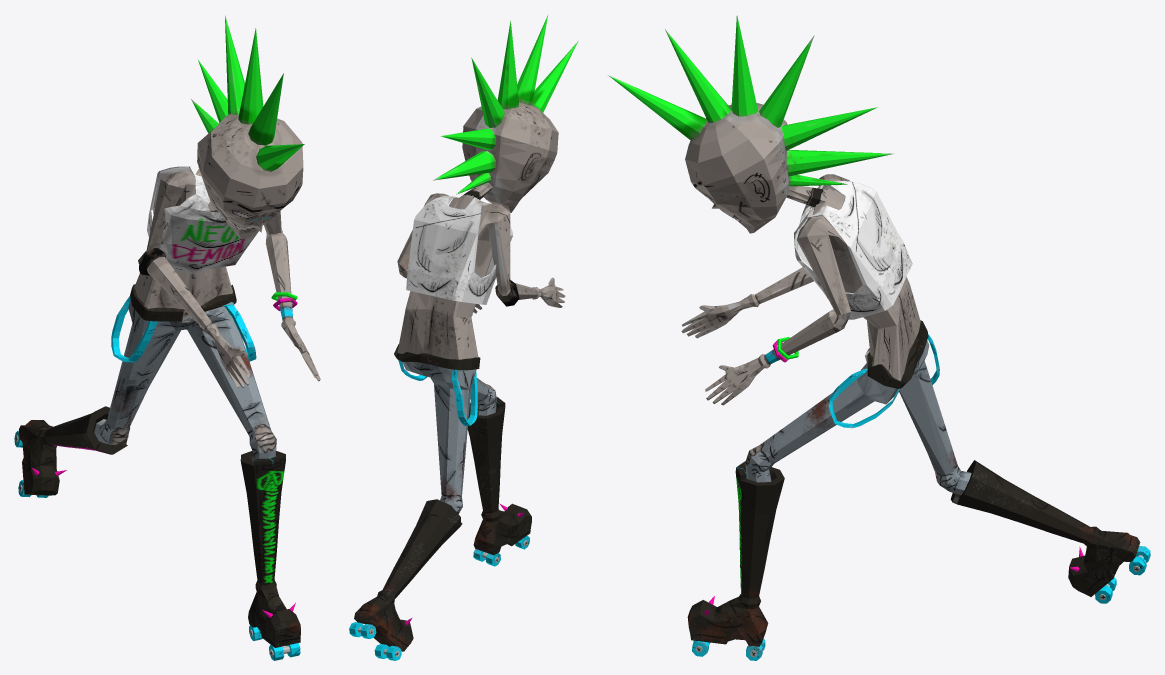
File: punkAnimation_000004.obj
The picture shows the model from 3 angles, left to right: view 1: azimuth 30°, elevation 25°; view 2: azimuth 150°, elevation 25°; view 3: azimuth 270°, elevation 25°; orthographic projection. The views are drawn at different scales.
Visible parts, largest first — view 1: Cube.004_Cube.003; view 2: Cube.004_Cube.003; view 3: Cube.004_Cube.003.
Boxes of the visible parts, left/top/right/bottom form: Cube.004_Cube.003: left=14, top=15, right=320, bottom=660; Cube.004_Cube.003: left=349, top=14, right=578, bottom=660; Cube.004_Cube.003: left=608, top=15, right=1150, bottom=660.
Size of the model in its own units: 1.58 by 6.58 by 5.12.
